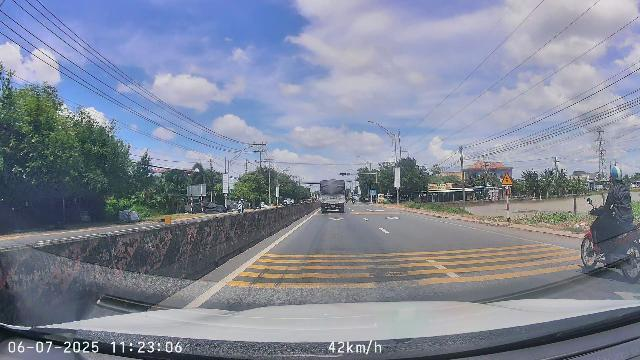209-giao-nhau-co-tin-hieu-den: (501, 172, 514, 185)
423a-duong-nguoi-di-bo-sang-ngang-1: (370, 190, 376, 195)
